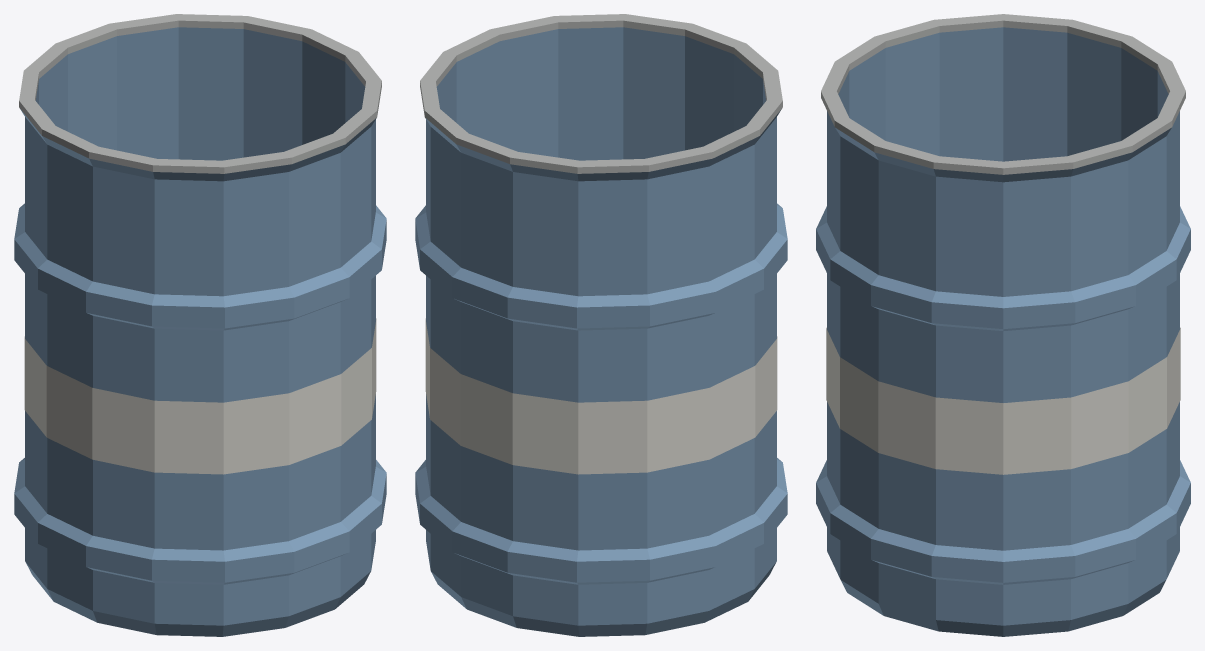
Rendered from barrel3.glb.
3 renders of one model, left to right at view 1: azimuth 30°, elevation 25°; view 2: azimuth 150°, elevation 25°; view 3: azimuth 270°, elevation 25°, orthographic.
Visible parts, largest first — view 1: NC_barrel3; view 2: NC_barrel3; view 3: NC_barrel3.
Boxes of the visible parts, x1,y1,x2,y2 form: NC_barrel3: (14,14,386,636); NC_barrel3: (415,14,787,636); NC_barrel3: (816,14,1190,636).
Size of the model in its own units: 0.616 by 0.86 by 0.616.
